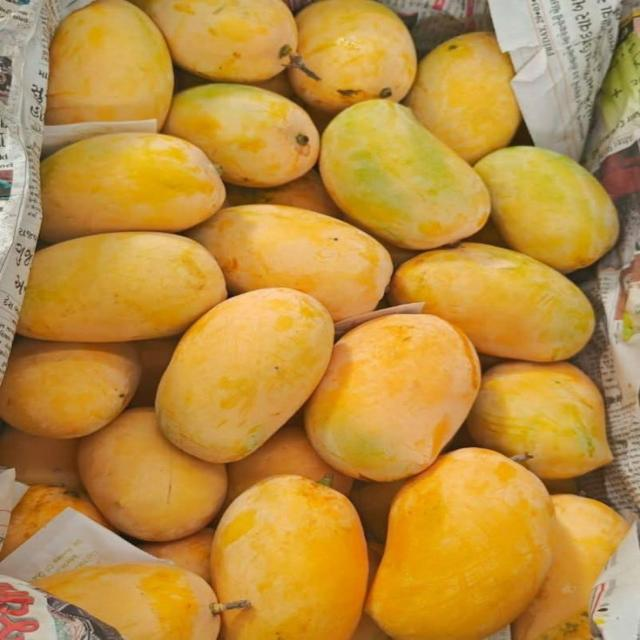mango: (367, 448, 552, 639), (156, 288, 334, 462), (305, 314, 480, 481), (212, 475, 367, 639), (320, 100, 490, 249), (391, 243, 594, 361), (189, 205, 392, 321), (18, 232, 226, 342), (41, 134, 225, 242), (78, 409, 226, 541), (475, 147, 619, 272), (467, 362, 613, 479), (512, 495, 629, 639), (46, 0, 173, 129), (164, 84, 319, 186), (407, 32, 520, 163), (290, 0, 417, 112), (33, 563, 220, 639), (0, 338, 141, 438), (144, 0, 297, 82), (227, 421, 353, 503), (0, 485, 109, 559), (227, 170, 342, 217), (0, 425, 81, 488), (140, 528, 214, 582), (129, 337, 179, 406), (350, 480, 404, 542), (243, 71, 299, 101), (246, 71, 299, 102), (466, 216, 508, 248), (379, 240, 420, 268), (351, 612, 389, 639), (305, 105, 334, 134), (543, 479, 579, 494)
